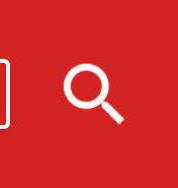ImgButton: (1, 1, 177, 187)
